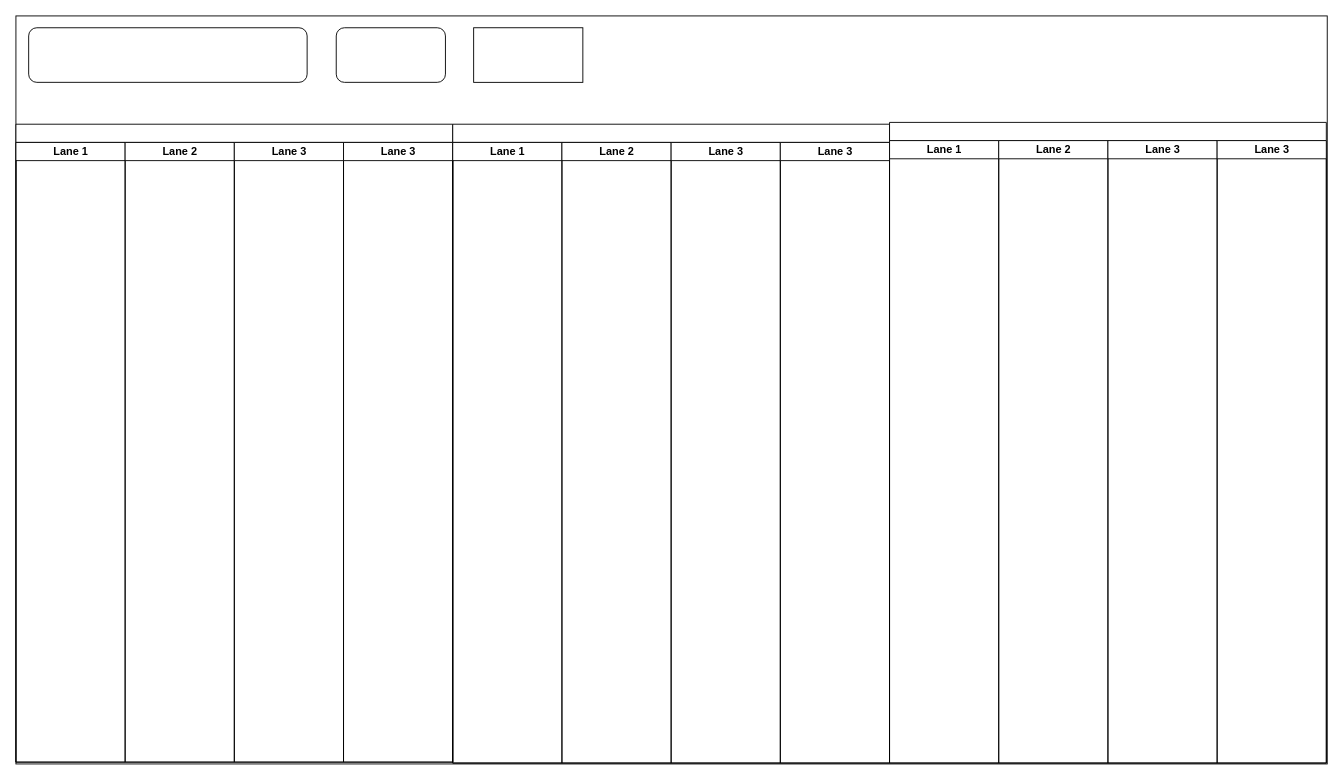
The diagram is 1343 pixels wide and 780 high, and some of its shapes have lost their labels. The shapes that lost their labels are listed below. From the top down, each one's centre as x and y in pixels, then its label:
the point at 167,54: ComboBoxRondas
the point at 390,54: Ver RESULTADO TORNEO
the point at 528,54: Ver TODOS PARTIDOS
